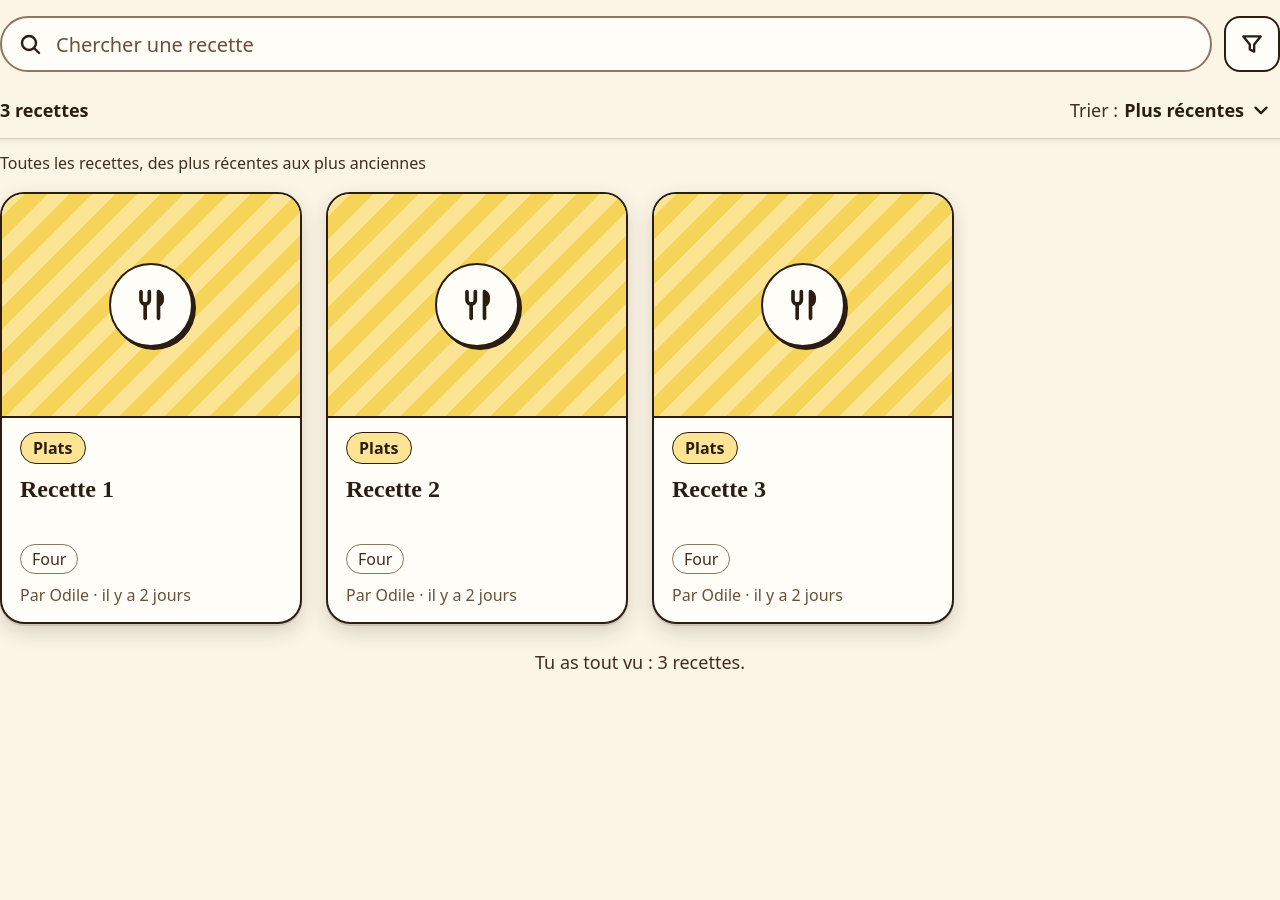
Test case: FiltersControl in the screen › only offers « Uniquement cette catégorie » for the chosen one
Expected: the link "Recette 1" is shown, [0,192,302,624]
Step 1. Click the button named "Filtres" → (1252, 44), box [1224,16,1279,72]
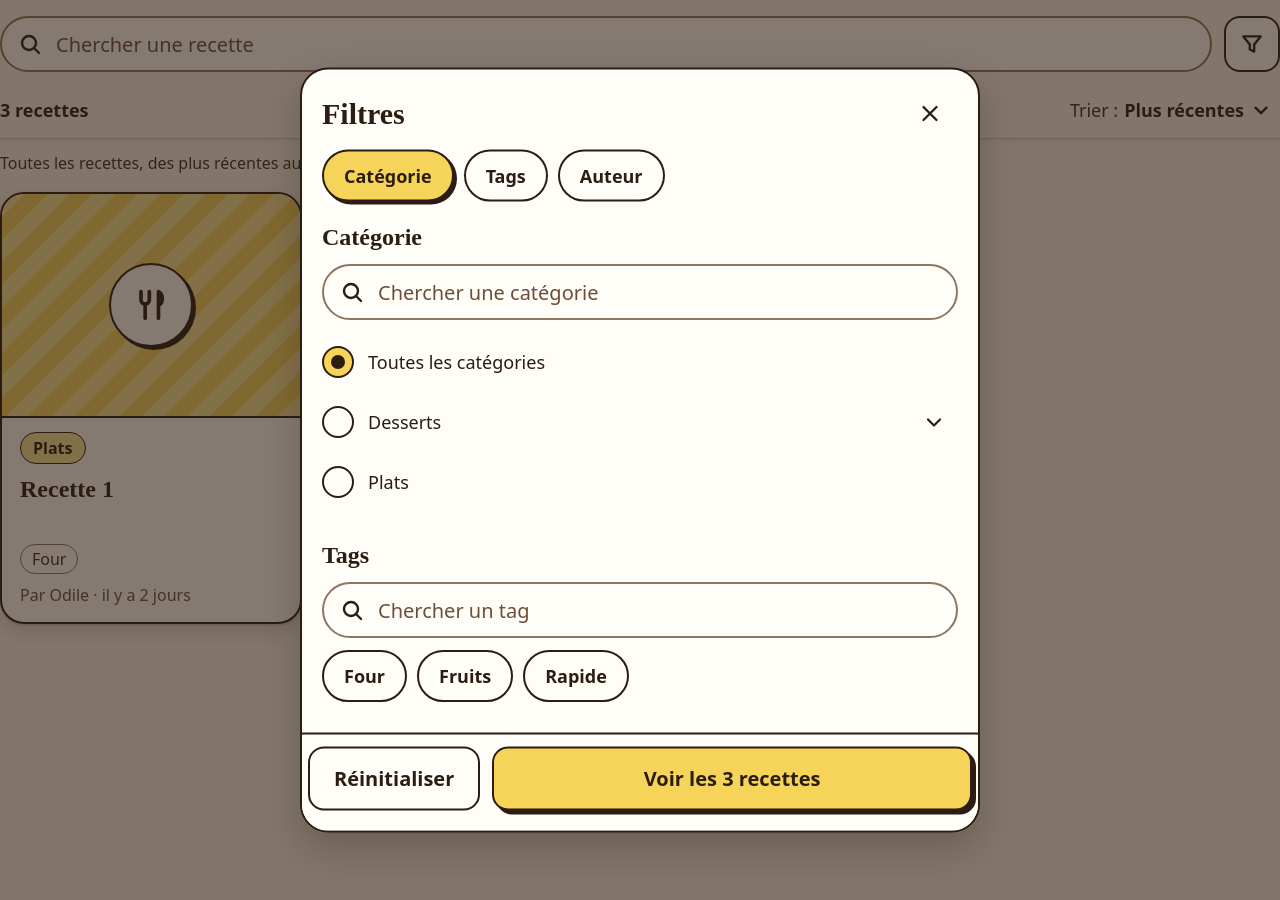
Step 2. Click the button named "Déplier Desserts" → (934, 422), box [910,398,958,446]
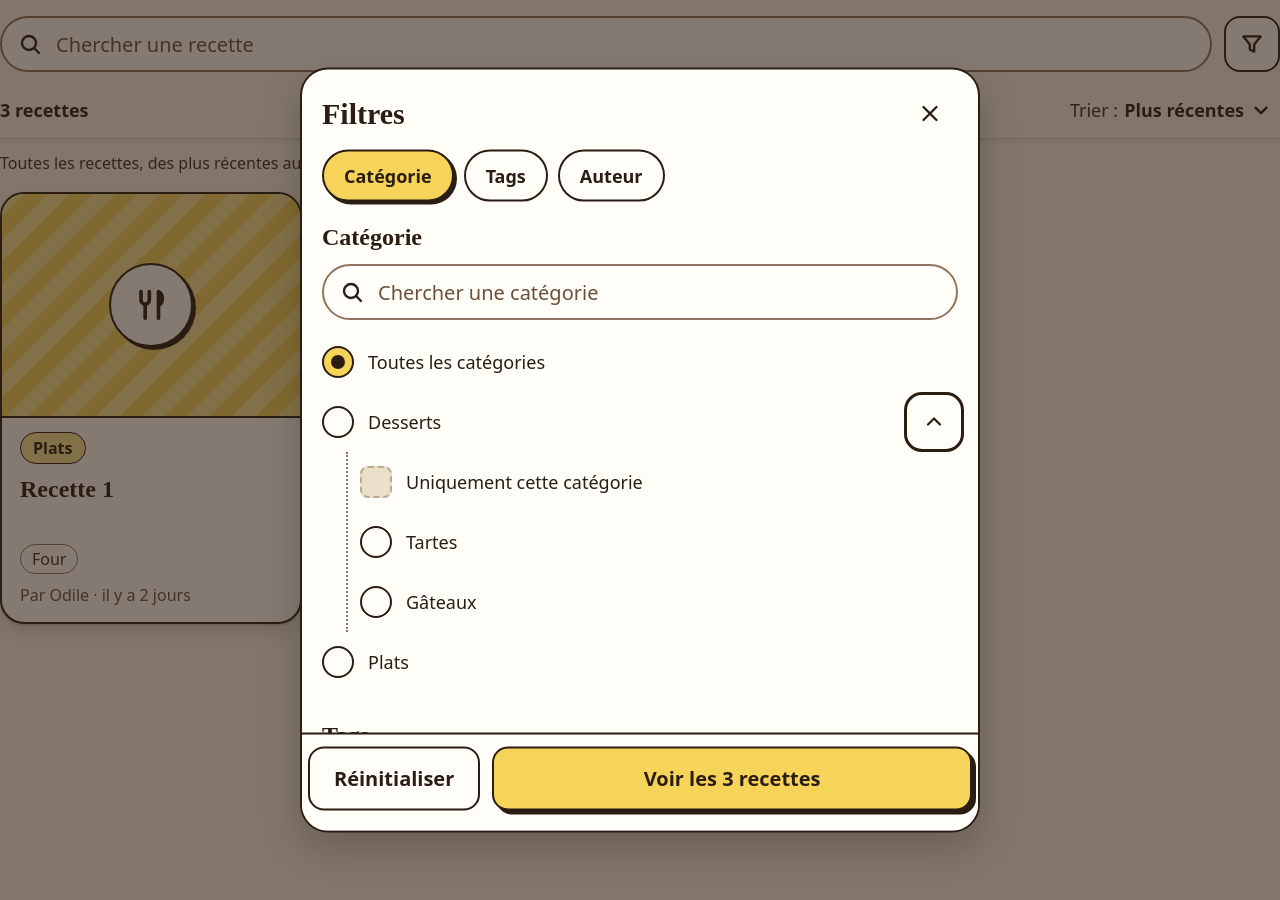
Expected: the checkbox labelled "Uniquement cette catégorie" is disabled, [360,466,643,498]
